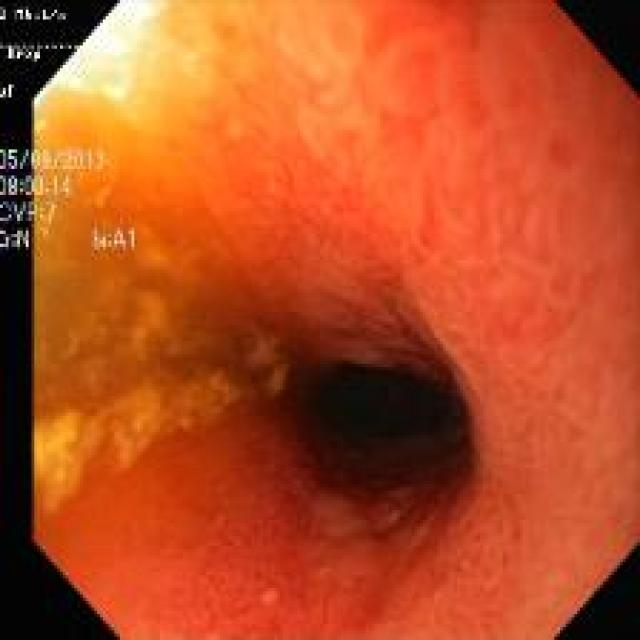ulcerative-colitis-grade-1: (35, 3, 638, 639)
